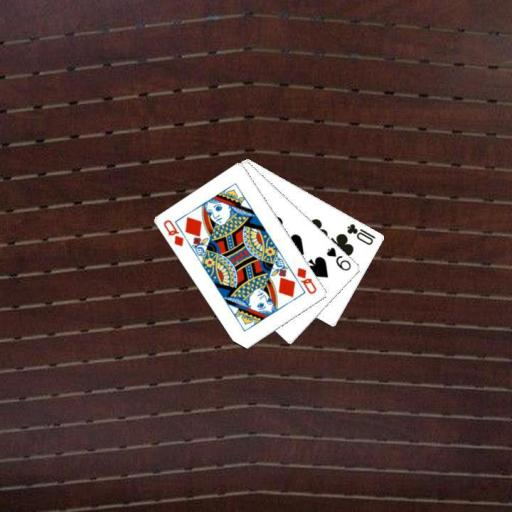10C: (344, 220, 378, 247)
9S: (324, 244, 353, 272)
QD: (294, 264, 319, 296), (161, 216, 186, 248)
